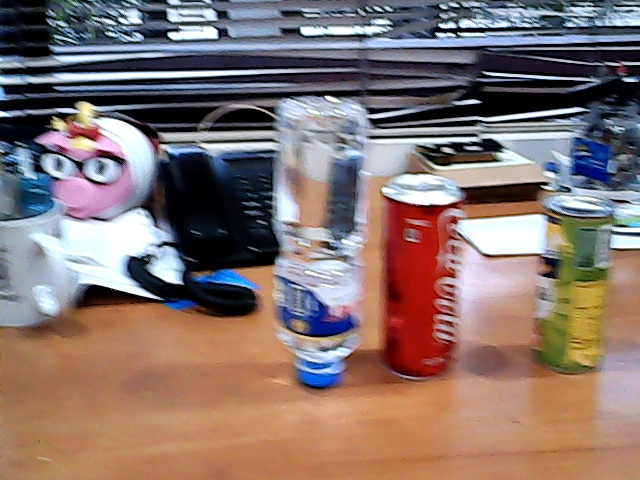Cola: (369, 165, 477, 392)
Pine Juice: (512, 187, 628, 387)
Summit Water: (267, 84, 372, 395)
